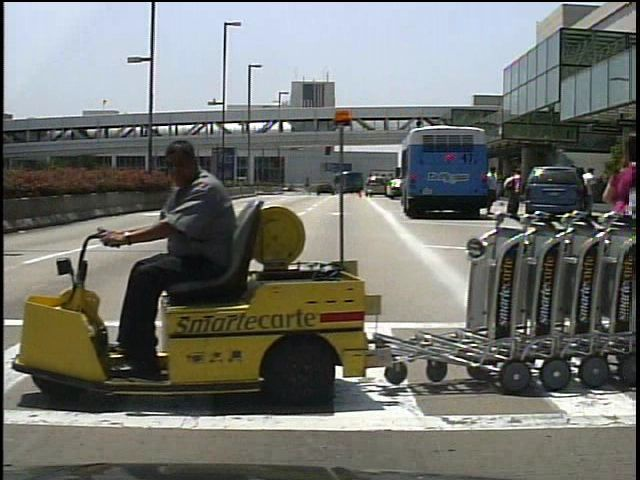person: (124, 137, 244, 376), (598, 119, 637, 350), (481, 163, 502, 216), (580, 165, 601, 214), (505, 166, 524, 218)
